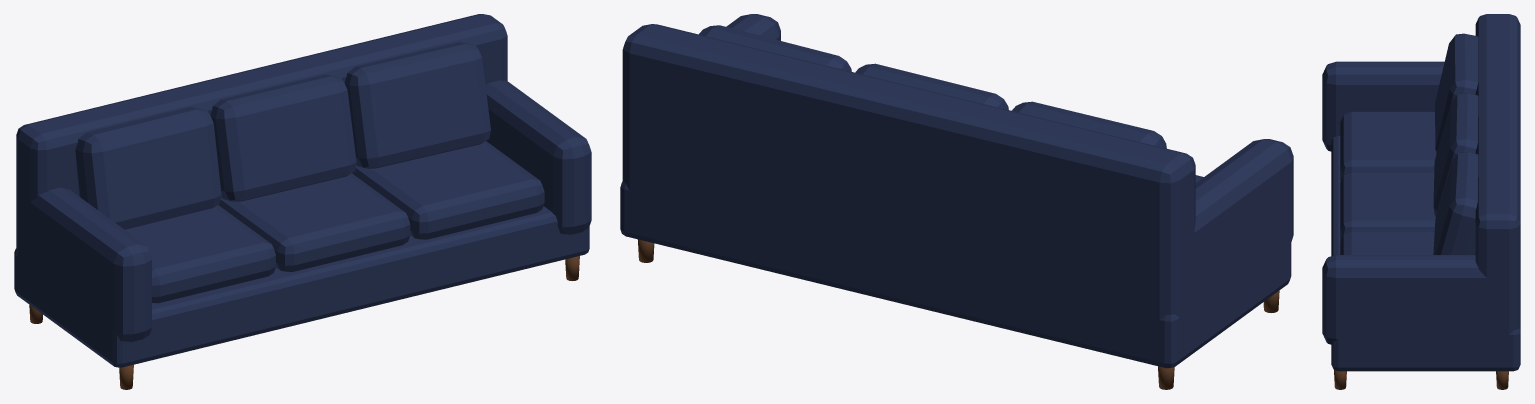
Rendered from Sofa.fbx.
3 views of the same model, side by side, from view 1: azimuth 30°, elevation 25°; view 2: azimuth 150°, elevation 25°; view 3: azimuth 270°, elevation 25° (orthographic). The views are drawn at different scales.
Parts seen in each view (by area): view 1: Sofa; view 2: Sofa; view 3: Sofa.
Boxes of the visible parts, left/top/right/bottom form: Sofa: left=14, top=14, right=591, bottom=389; Sofa: left=620, top=14, right=1293, bottom=389; Sofa: left=1322, top=14, right=1520, bottom=389.
Bounding box in the file's own units: 2.2 × 0.86 × 0.88.
